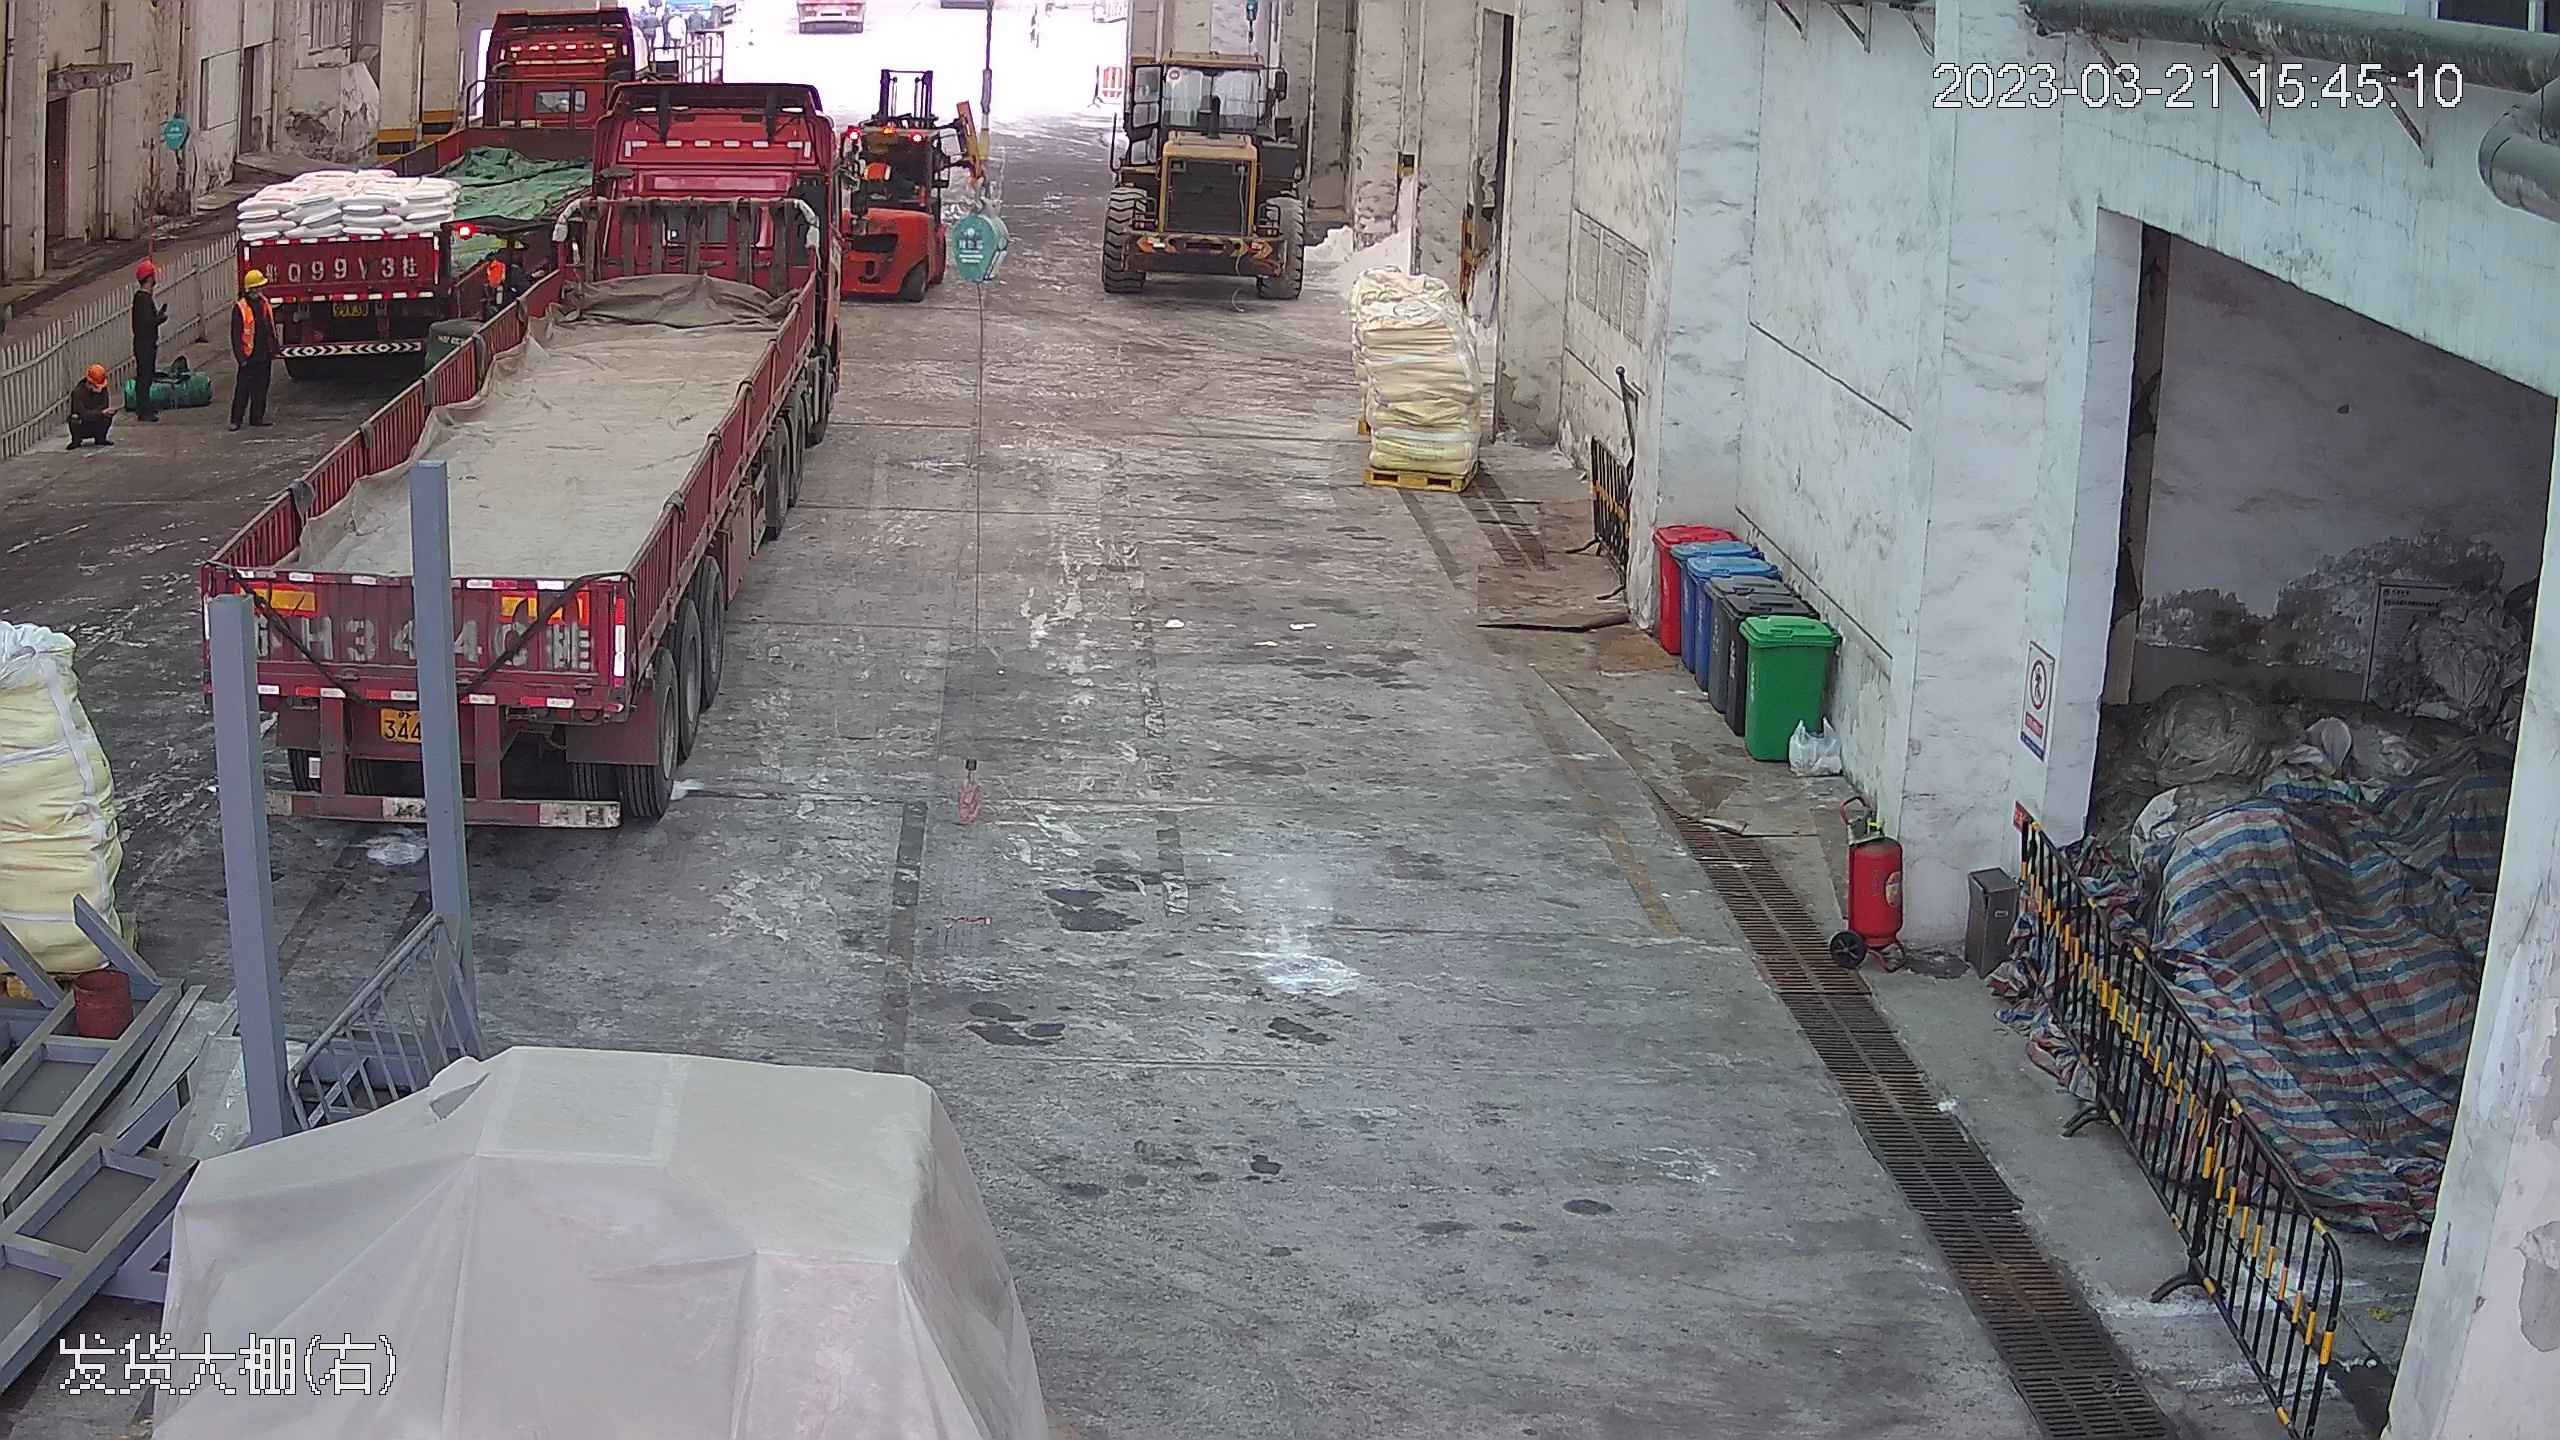head: (233, 266, 278, 325), (72, 356, 114, 402), (126, 258, 164, 306)
helmet: (84, 360, 111, 389), (241, 268, 267, 291), (136, 258, 159, 278)
people: (225, 267, 283, 437), (124, 256, 169, 398), (65, 353, 113, 450)
truck: (201, 30, 852, 843), (208, 7, 588, 381)
